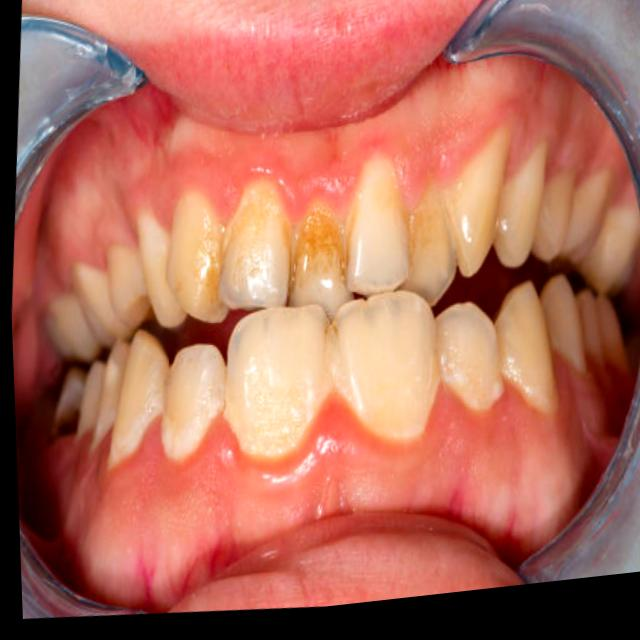calculus: (224, 180, 291, 261), (111, 397, 162, 465), (294, 208, 343, 271), (166, 409, 222, 461), (194, 194, 226, 273), (505, 370, 555, 408)
gingivitis: (102, 355, 615, 508)
